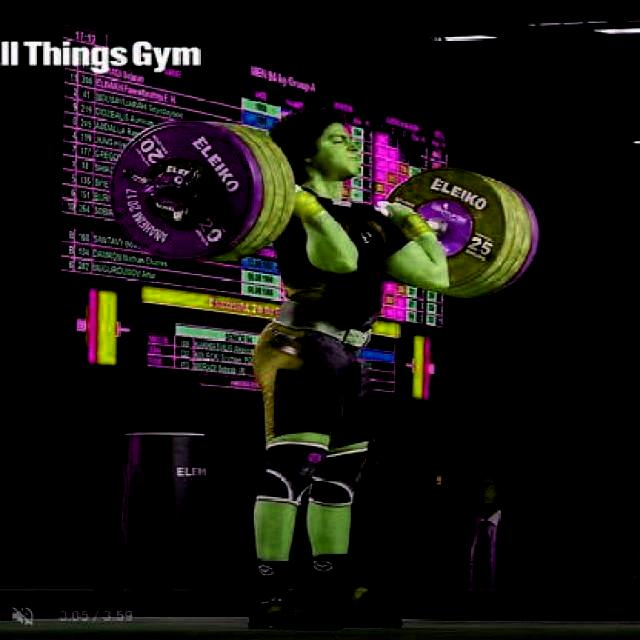barbell: (101, 121, 267, 266)
